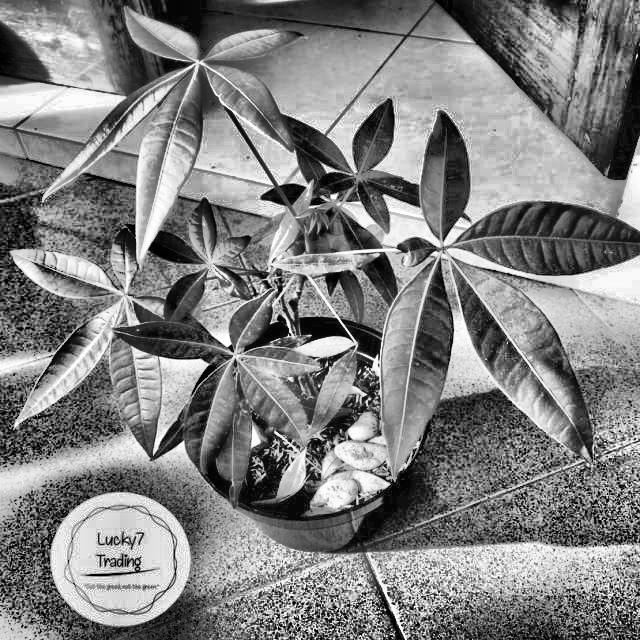plants: (11, 3, 640, 524)
